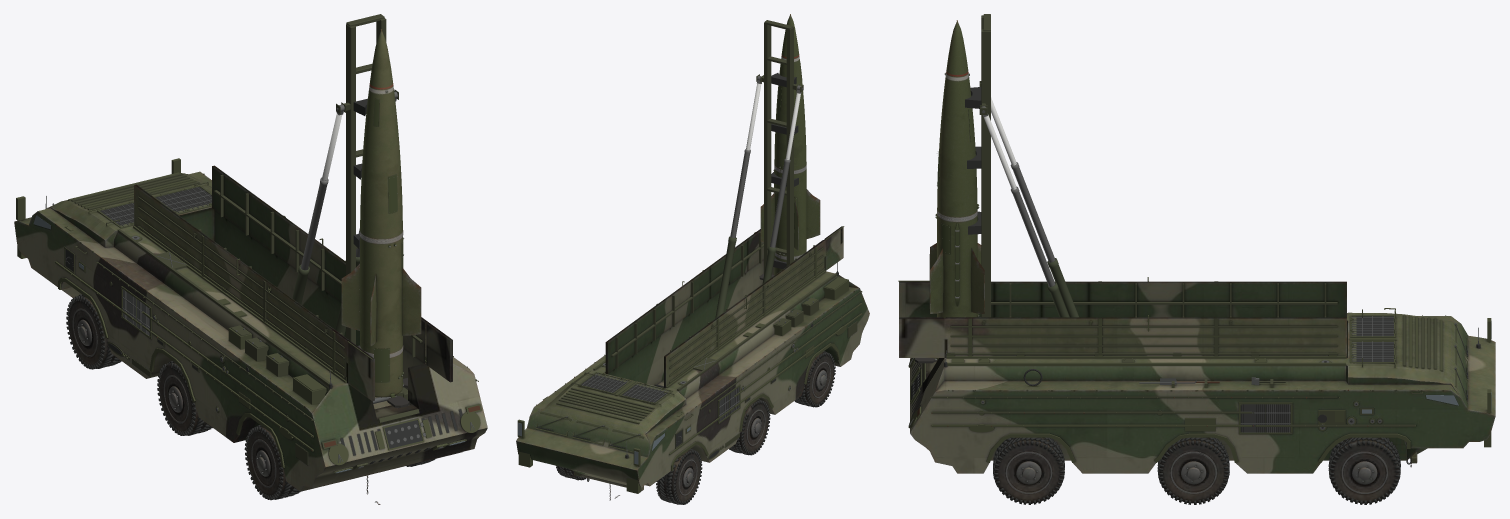
Rendered from l_tochka.glb.
The picture shows the model from 3 angles, left to right: view 1: azimuth 30°, elevation 25°; view 2: azimuth 150°, elevation 25°; view 3: azimuth 270°, elevation 25°; orthographic projection. The views are drawn at different scales.
Visible parts, largest first — view 1: body|TCH_body, tbm|M79_body, body|TCH_body2, body|TCH_bodyF, body|TCH_darkF, body|TCH_dark, body|TCH_steelF, body|TCH_steel, tbm|M79_bodyF, body|Cylinder steel dark, body|Cylinder paint; view 2: body|TCH_body, body|TCH_body2, body|TCH_bodyF, tbm|M79_body, body|TCH_darkF, body|TCH_dark, body|TCH_steelF, body|Cylinder steel dark, body|TCH_steel, body|Cylinder paint, body|Cylinder rod chrome; view 3: body|TCH_body, body|TCH_body2, body|TCH_bodyF, tbm|M79_body, body|TCH_darkF, body|TCH_dark, body|TCH_steel, body|TCH_steelF, body|Cylinder steel dark, body|Cylinder paint, body|Cylinder rod chrome.
Part boxes in pixels (x1,y1,x2,y2): body|TCH_body: (14, 165, 487, 491); tbm|M79_body: (341, 29, 421, 397); body|TCH_body2: (40, 14, 477, 473); body|TCH_bodyF: (16, 158, 481, 467); body|TCH_darkF: (65, 98, 462, 500); body|TCH_dark: (68, 296, 422, 497); body|TCH_steelF: (20, 107, 474, 504); body|TCH_steel: (72, 308, 276, 487); tbm|M79_bodyF: (373, 99, 403, 382); body|Cylinder steel dark: (300, 91, 397, 270); body|Cylinder paint: (292, 257, 359, 335); body|TCH_body: (516, 226, 869, 491); body|TCH_body2: (543, 20, 861, 459); body|TCH_bodyF: (517, 226, 862, 493); tbm|M79_body: (760, 14, 820, 275); body|TCH_darkF: (536, 73, 838, 504); body|TCH_dark: (557, 352, 834, 502); body|TCH_steelF: (520, 88, 837, 500); body|Cylinder steel dark: (730, 75, 801, 247); body|TCH_steel: (678, 361, 830, 495); body|Cylinder paint: (715, 236, 776, 318); body|Cylinder rod chrome: (746, 83, 800, 159); body|TCH_body: (899, 281, 1495, 473); body|TCH_body2: (922, 14, 1445, 434); body|TCH_bodyF: (898, 277, 1491, 462); tbm|M79_body: (929, 20, 984, 359); body|TCH_darkF: (911, 87, 1480, 504); body|TCH_dark: (994, 437, 1398, 503); body|TCH_steel: (1005, 451, 1388, 494); body|TCH_steelF: (909, 110, 1479, 482); body|Cylinder steel dark: (981, 106, 1055, 286); body|Cylinder paint: (1047, 258, 1078, 317); body|Cylinder rod chrome: (984, 97, 1016, 189).
Size of the model in its own units: 3.4 by 9.23 by 11.12.
22 materials, 6 textured.
